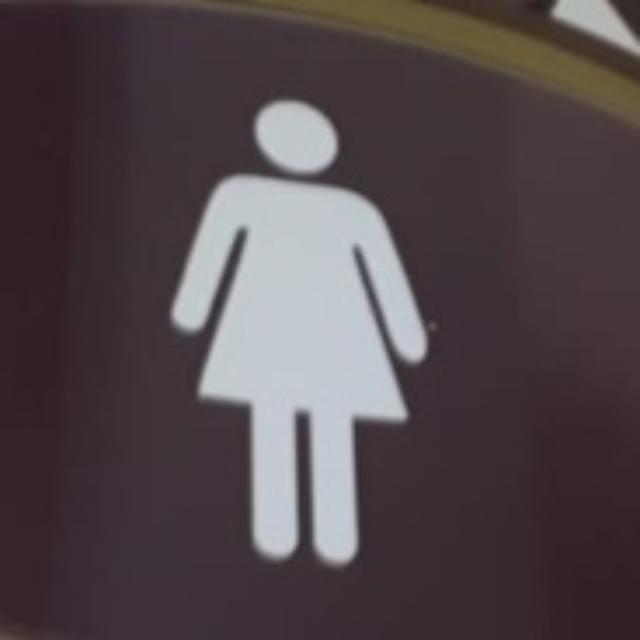wc nu: (0, 0, 637, 637)
